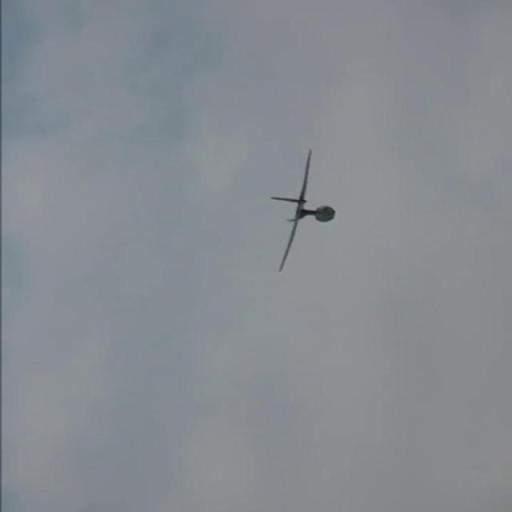uav: (272, 150, 330, 272)
